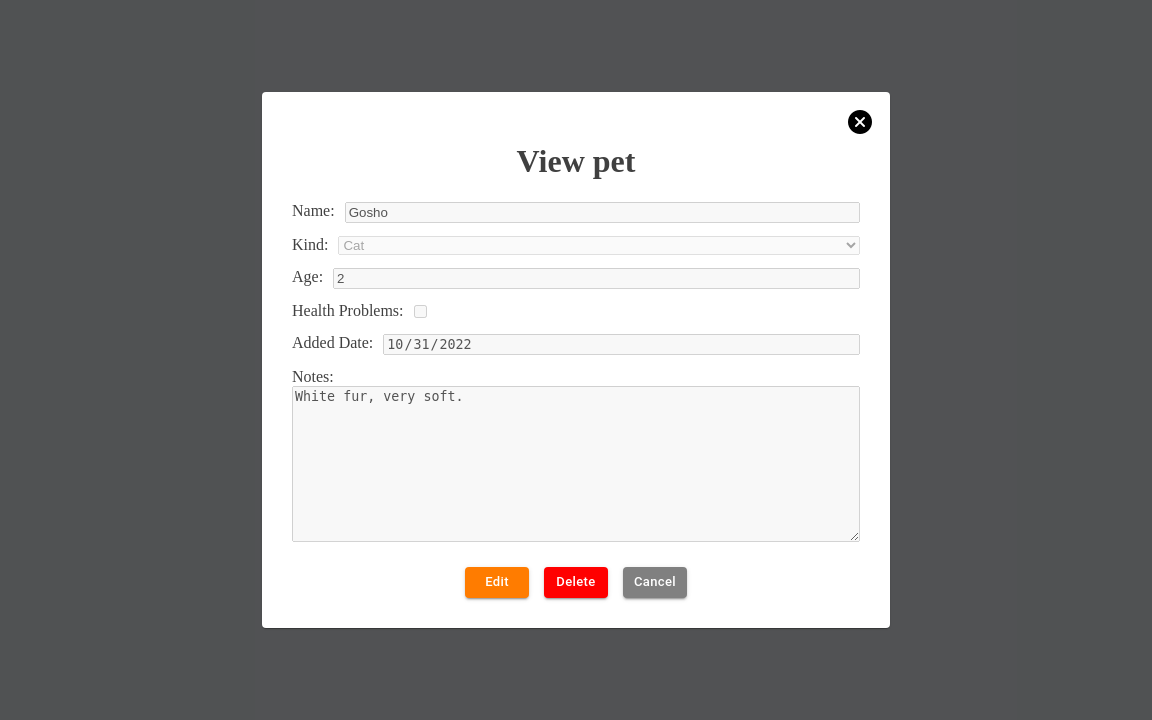
Test: transitions the form into edit mode when the edit button is clicked
Click the button "Edit": (497, 583) [465, 567, 529, 598]
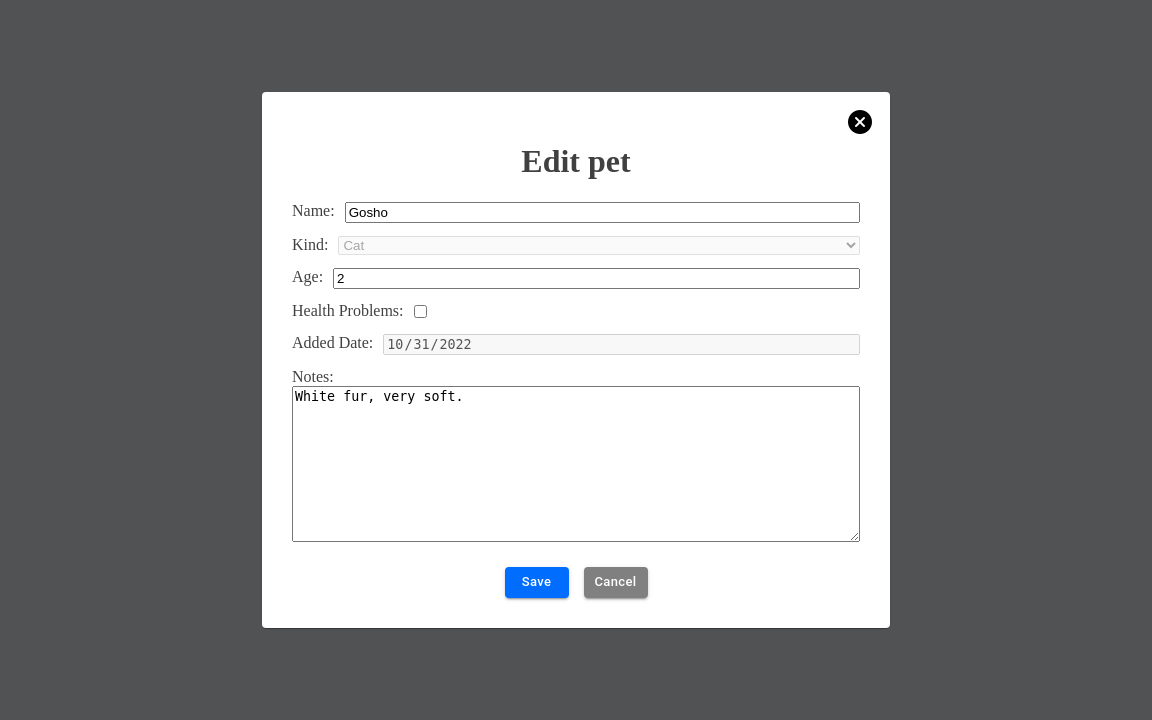
Result: the heading "Edit pet" is shown at [521, 144, 631, 180]
Result: the button "Save" is enabled at [504, 567, 568, 598]
Result: the field labelled "Name:" is enabled at [345, 202, 860, 223]
